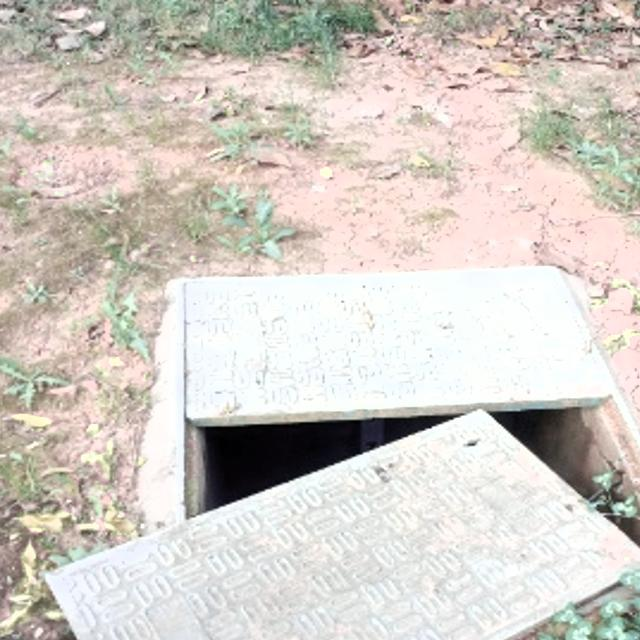uncovered: (44, 266, 640, 640)
